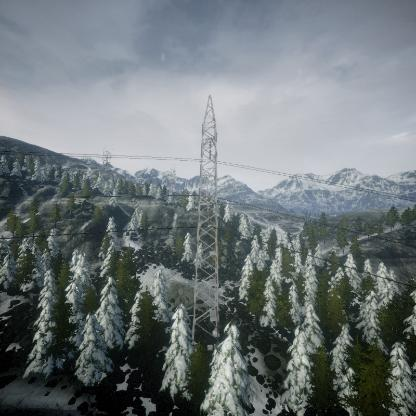tower: (189, 95, 225, 345)
